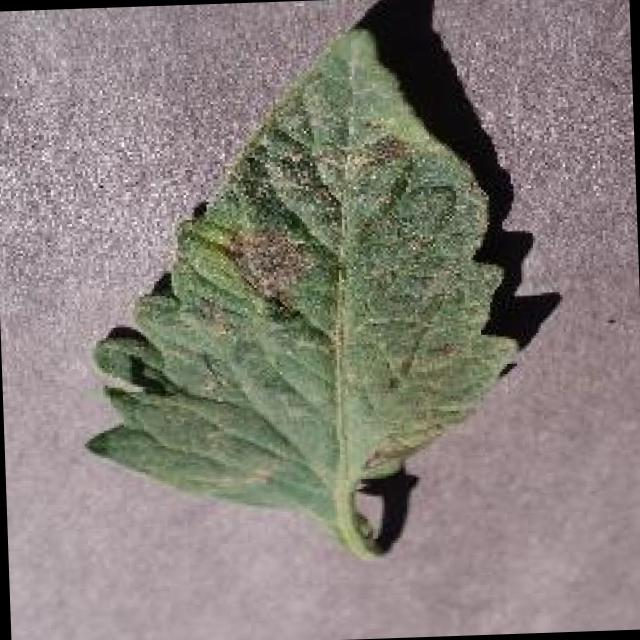Tomato_Early_Blight: (172, 129, 499, 331)
